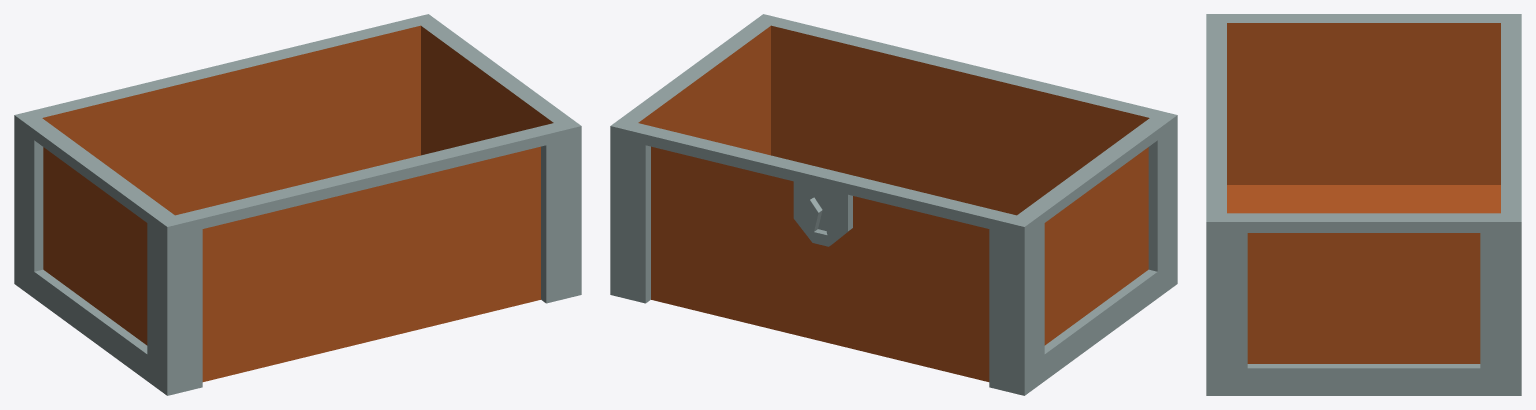
The model's file is Treasure Chest Bottom.fbx.
3 renders of one model, left to right at view 1: azimuth 30°, elevation 25°; view 2: azimuth 150°, elevation 25°; view 3: azimuth 270°, elevation 25°, orthographic. The views are drawn at different scales.
Visible parts, largest first — view 1: Chest1; view 2: Chest1; view 3: Chest1.
Part boxes in pixels (x1,y1,x2,y2): Chest1: (14, 14, 581, 395); Chest1: (610, 14, 1177, 395); Chest1: (1206, 14, 1521, 395).
Size of the model in its own units: 324 by 126 by 207.
